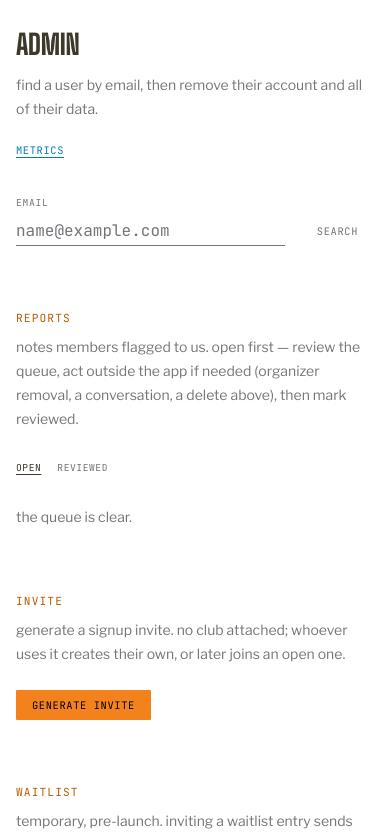
Test: AdminRoute › search: an empty result shows a calm no-matches message
In the search field labelled "email": [150, 232] box [16,217,285,246], type "nobody"
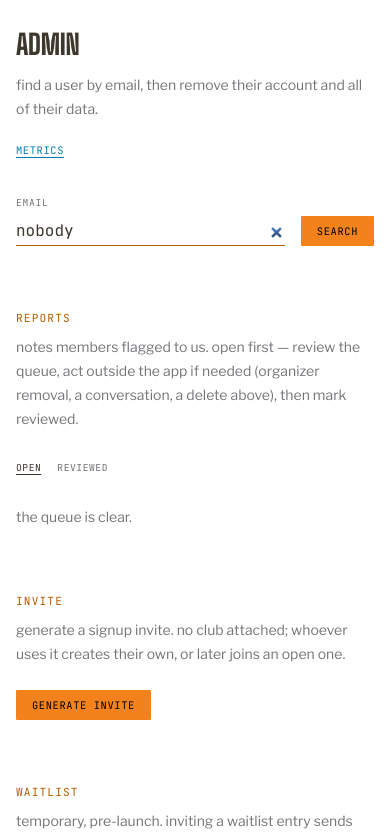
Click the button "search": [337, 231] box [301,216,374,246]
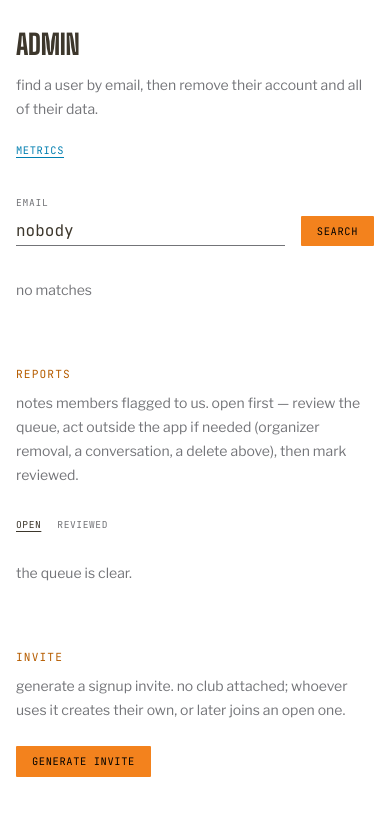
Result: the text "no matches" is shown at [16,281,92,298]
